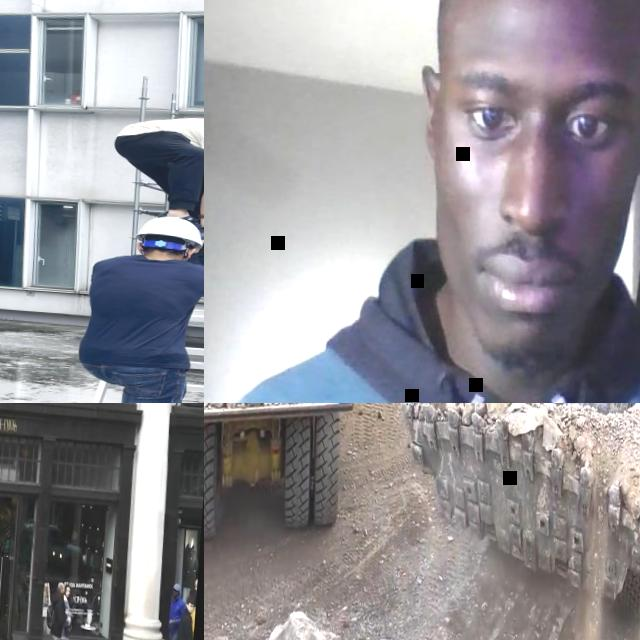Hardhat: (130, 212, 204, 247)
NO-Hardhat: (172, 582, 182, 591), (184, 596, 193, 604), (56, 581, 63, 588), (65, 582, 70, 589), (195, 578, 198, 586)
NO-Mask: (424, 165, 634, 370), (186, 606, 192, 615), (60, 589, 64, 596), (65, 591, 69, 597)
NO-Safety Vest: (245, 313, 640, 403), (82, 249, 204, 362), (123, 111, 204, 170), (49, 600, 66, 637), (166, 598, 182, 635), (171, 615, 194, 640), (61, 600, 71, 640), (190, 590, 197, 626), (189, 608, 195, 638)
Person: (215, 0, 640, 403), (66, 209, 204, 403), (106, 109, 204, 250), (36, 579, 74, 640), (160, 590, 196, 640), (159, 580, 188, 640), (49, 580, 73, 640), (177, 596, 195, 640)
vehicle: (383, 403, 640, 626), (204, 403, 375, 566)
